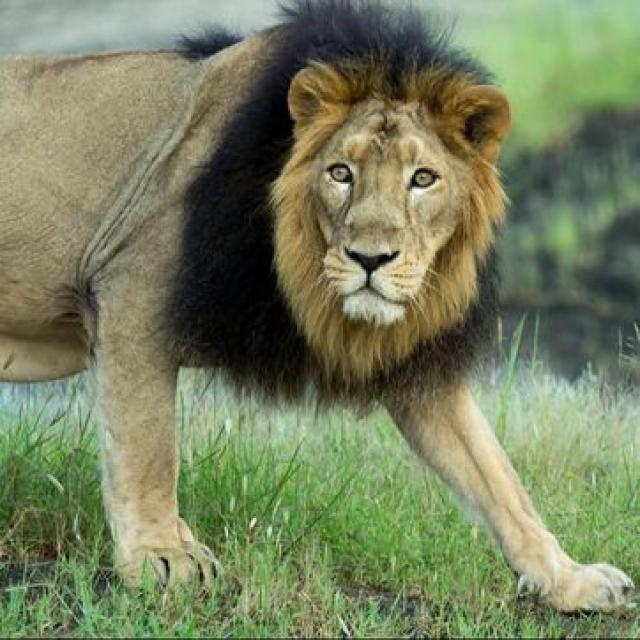lions: (15, 11, 640, 640)
